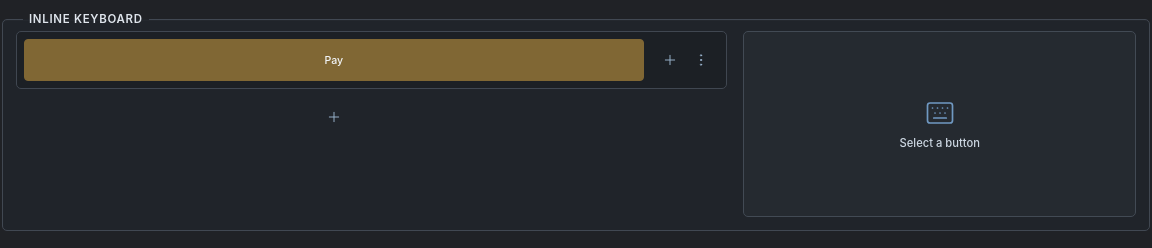
Test: KeyboardComposer › inserts a resource variable into a button label from the shared $ picker
Click the button "Pay" at (334, 60), box [24, 39, 644, 81]
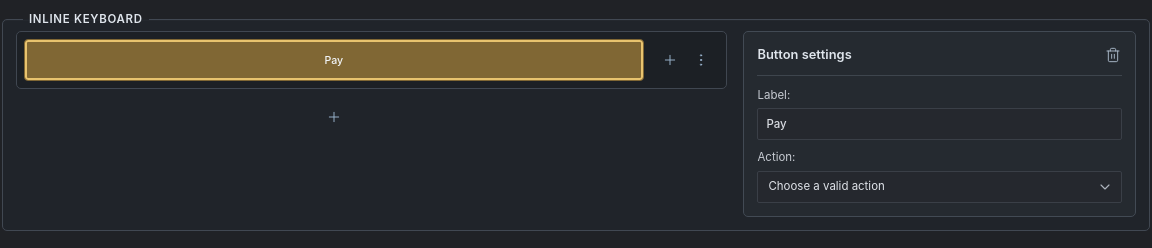
Replace the text in the field named "Button text" with "Pay $" at (940, 124), box [758, 108, 1122, 140]
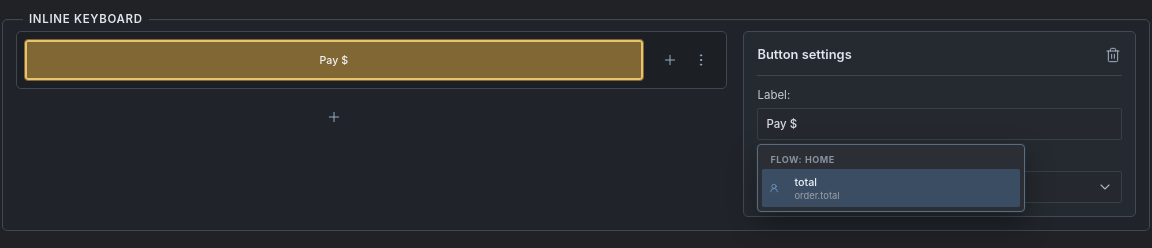
Now the option "total order.total" is shown, box [762, 169, 1020, 207]
Press Enter in the field named "Button text", box [758, 108, 1122, 140]
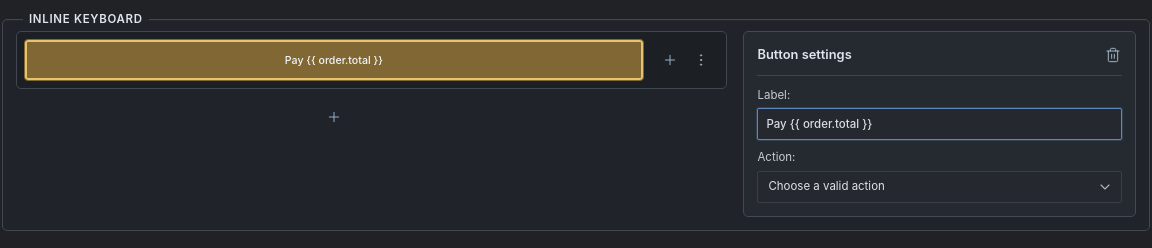
Now the field named "Button text" holds "Pay {{ order.total }}", box [758, 108, 1122, 140]
